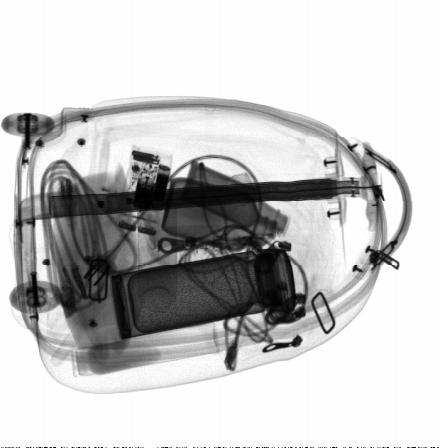Sprayer: (72, 321, 218, 377), (137, 178, 178, 312)
